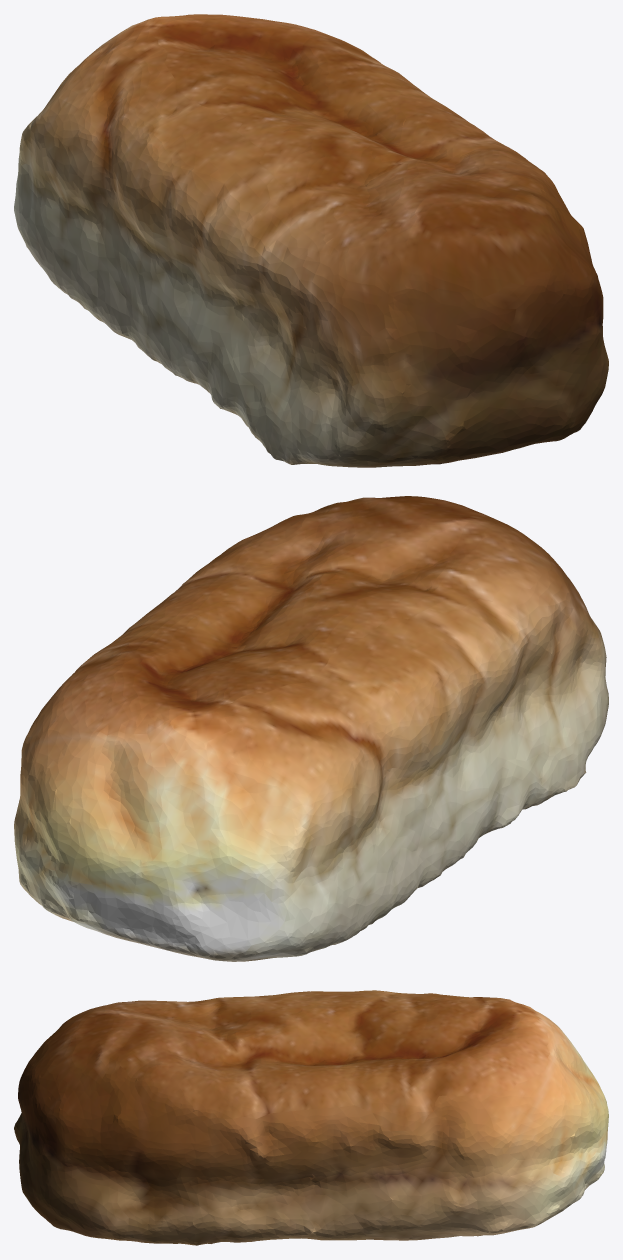
Rendered from Scaniverse 2023-07-21 152128.glb.
3 renders of one model, top to bottom at view 1: azimuth 30°, elevation 25°; view 2: azimuth 150°, elevation 25°; view 3: azimuth 270°, elevation 25°, orthographic. The views are drawn at different scales.
Parts seen in each view (by area): view 1: mesh; view 2: mesh; view 3: mesh.
Boxes of the visible parts, <box> form: mesh: <box>14,14,608,467</box>; mesh: <box>14,496,608,961</box>; mesh: <box>14,990,608,1245</box>.
Size of the model in its own units: 0.0841 by 0.0567 by 0.1687.
1 material, 1 textured.
